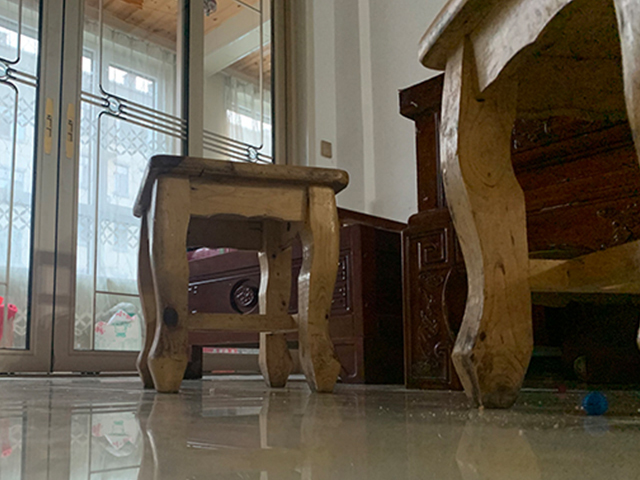stool: (416, 1, 640, 412), (131, 154, 351, 395)
